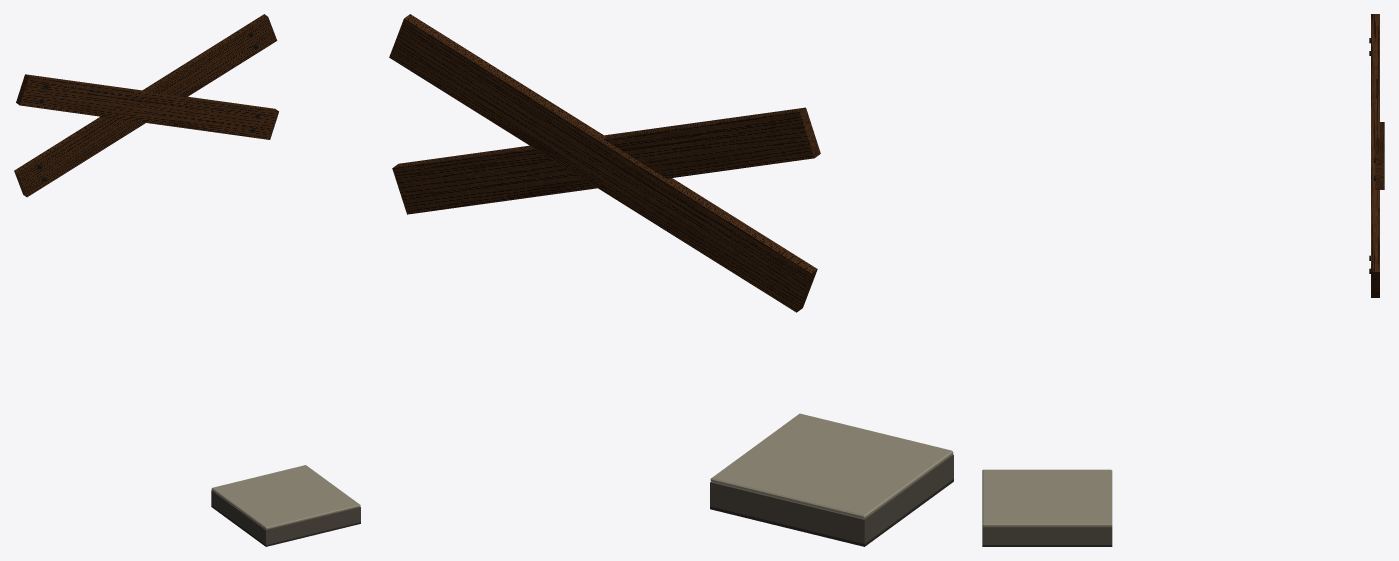
The model's file is crumble.glb.
3 renders of one model, left to right at view 1: azimuth 30°, elevation 25°; view 2: azimuth 150°, elevation 25°; view 3: azimuth 270°, elevation 25°, orthographic. The views are drawn at different scales.
Parts seen in each view (by area): view 1: barricade, tile; view 2: barricade, tile; view 3: tile, barricade.
Part boxes in pixels (bbox=[...]): barricade: bbox=[14, 14, 278, 197]; tile: bbox=[211, 465, 360, 546]; barricade: bbox=[389, 14, 820, 312]; tile: bbox=[710, 413, 953, 546]; tile: bbox=[982, 469, 1112, 546]; barricade: bbox=[1369, 14, 1384, 297].
Size of the model in its own units: 3.12 by 4.22 by 3.53.
5 materials, 2 textured.
